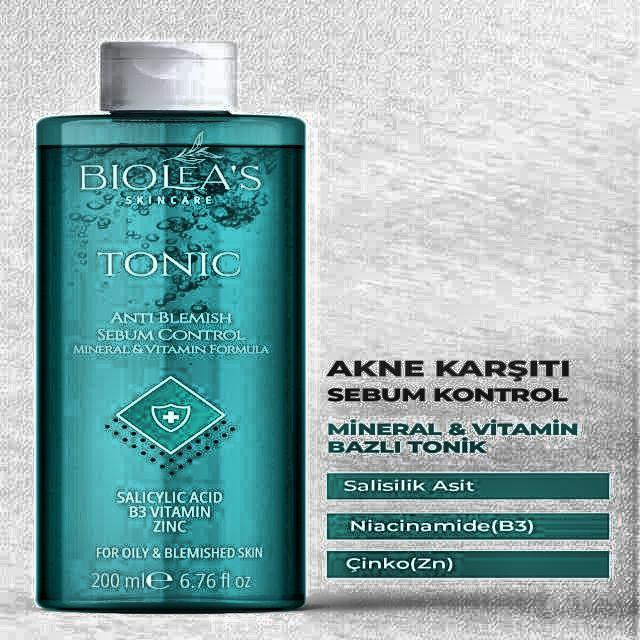plastic: (34, 41, 308, 617)
